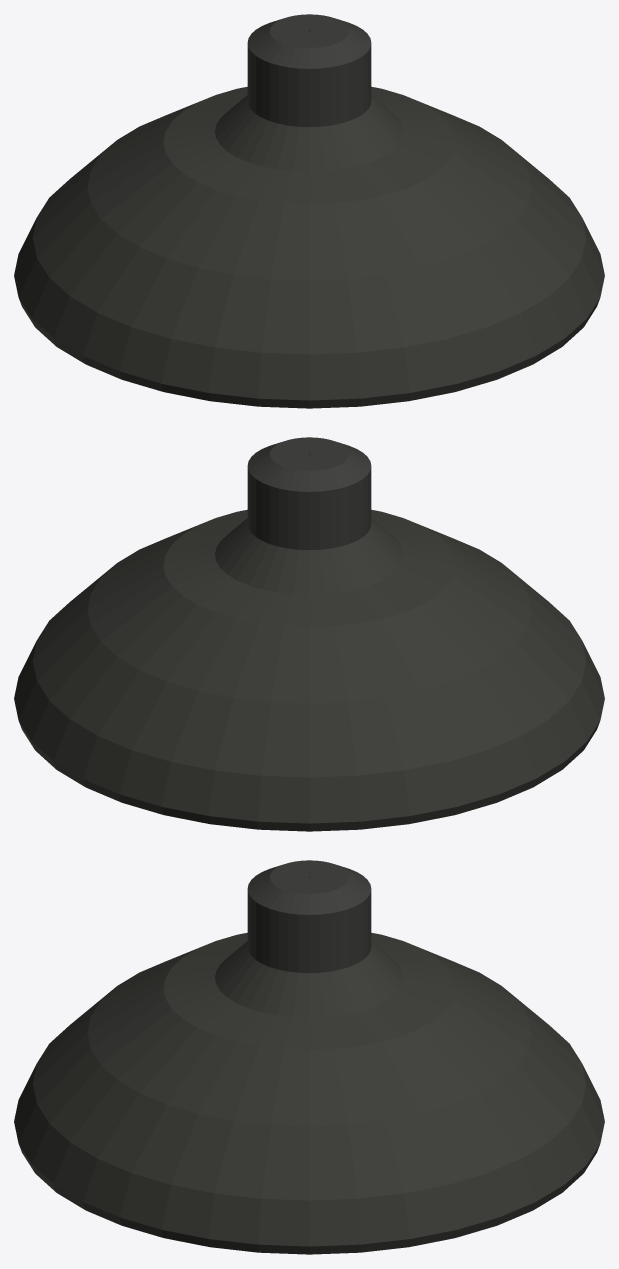
Rendered from enamel-pendant.glb.
3 views of the same model, one above another, from view 1: azimuth 30°, elevation 25°; view 2: azimuth 150°, elevation 25°; view 3: azimuth 270°, elevation 25° (orthographic).
Bounding box in the file's own units: 0.506 × 0.24 × 0.506.
Materials: 1 (1 with a texture image).
